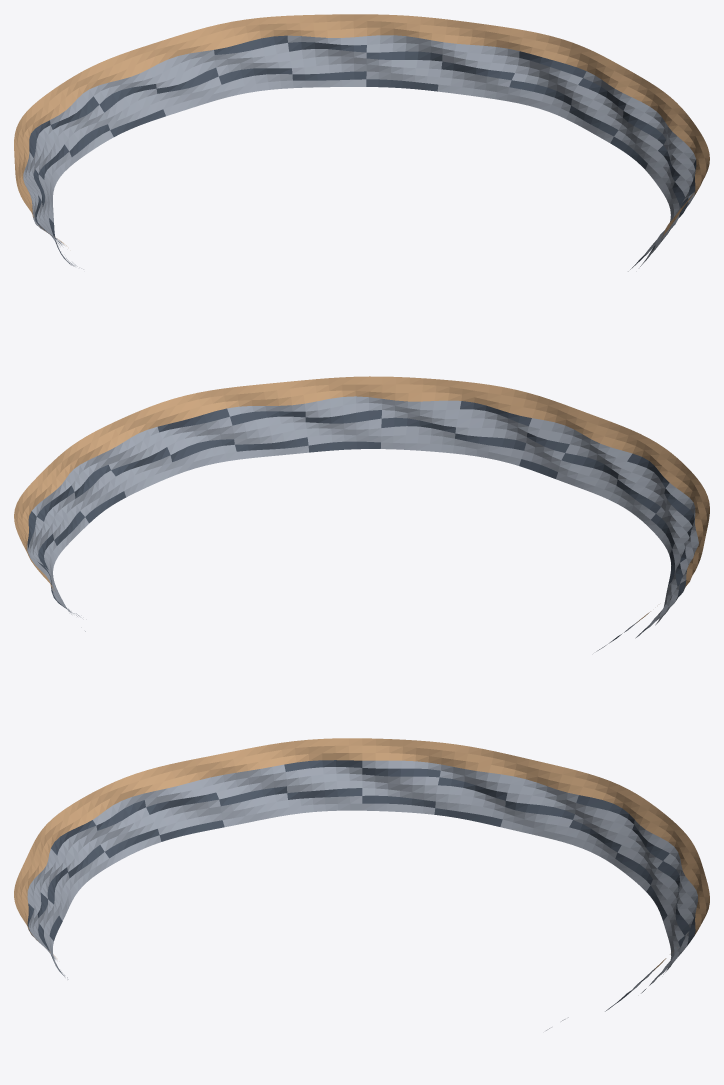
File: deco_island_cliff.glb
The picture shows the model from 3 angles, top to bottom: view 1: azimuth 30°, elevation 25°; view 2: azimuth 150°, elevation 25°; view 3: azimuth 270°, elevation 25°; orthographic projection.
Parts seen in each view (by area): view 1: deco_island_cliff; view 2: deco_island_cliff; view 3: deco_island_cliff.
Boxes of the visible parts, bbox=[...] form: deco_island_cliff: bbox=[14, 14, 709, 271]; deco_island_cliff: bbox=[14, 376, 709, 651]; deco_island_cliff: bbox=[14, 738, 709, 1030].
Size of the model in its own units: 64.03 by 5.7 by 64.26.
1 material, 1 textured.
